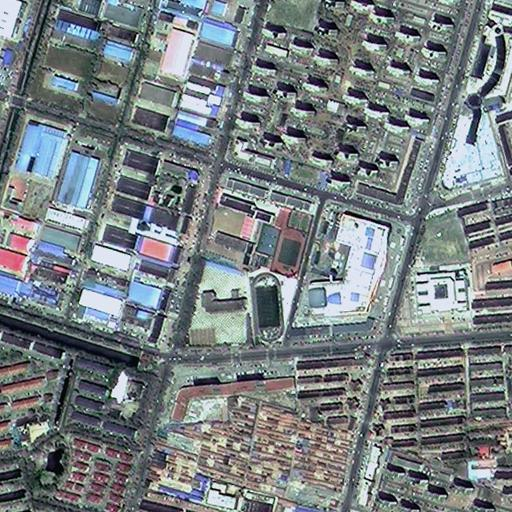school: (176, 262, 298, 350), (202, 189, 315, 274)
